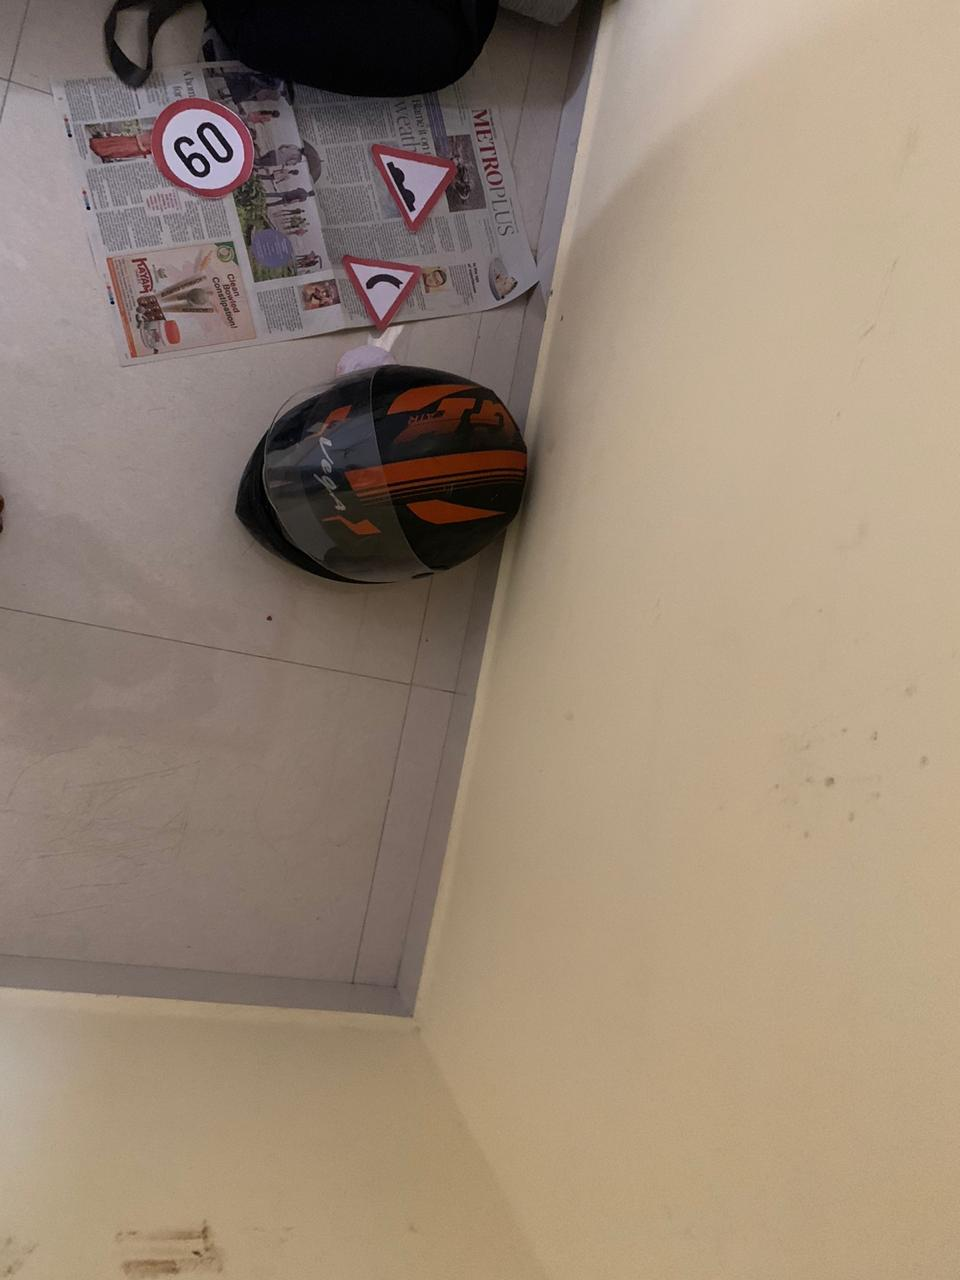LEFT CURVE: (338, 258, 452, 340)
SPEED LIMIT (60 KM/H): (126, 88, 276, 215)
UNEVEN ROAD: (365, 126, 470, 240)
